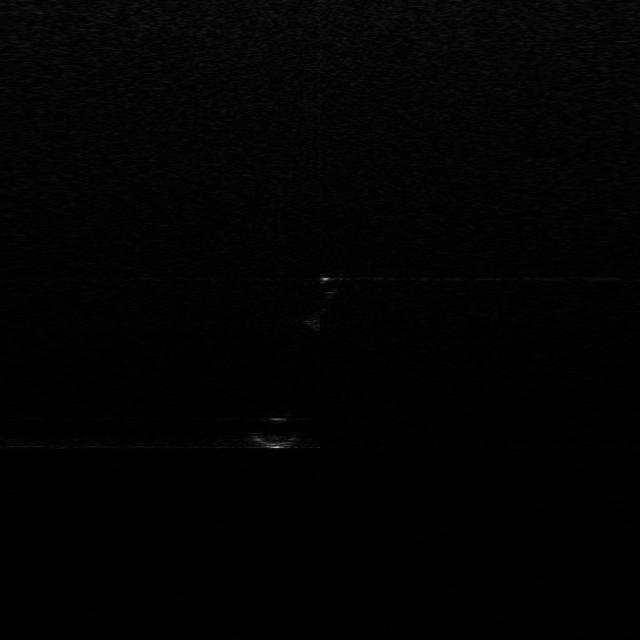ball: (250, 411, 304, 448)
tyre: (300, 270, 344, 331)
